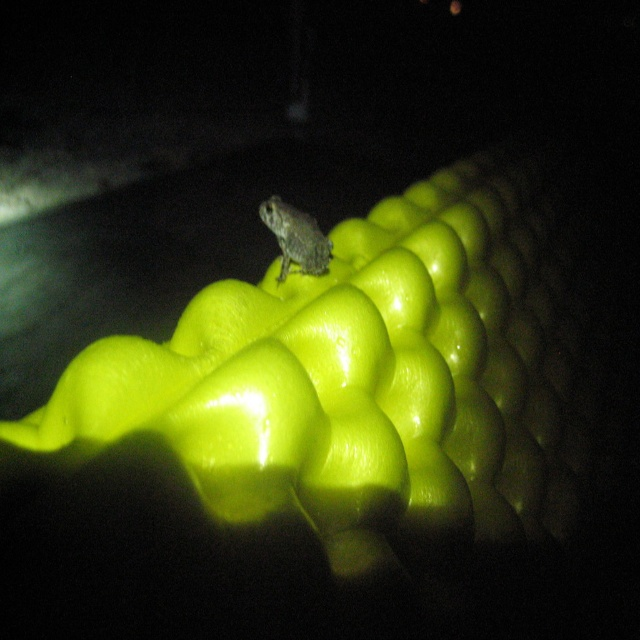Frog: (256, 193, 336, 286)
